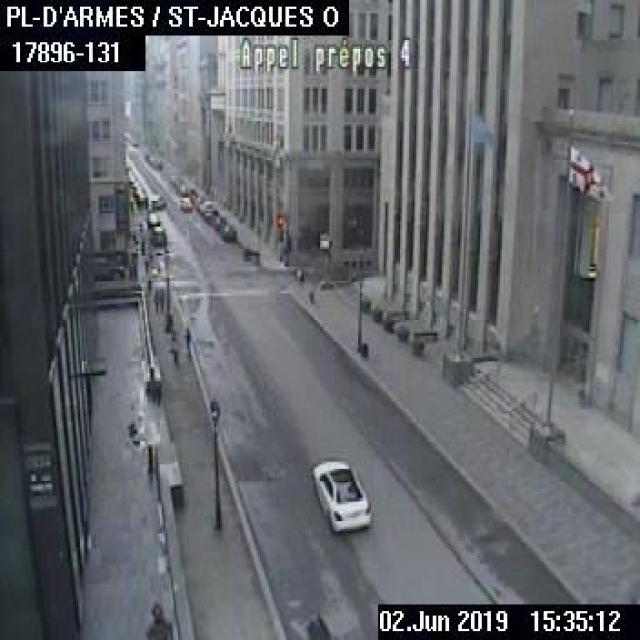pedestrian: (182, 328, 190, 352), (151, 287, 158, 313), (158, 286, 164, 311)
vehicle: (308, 458, 371, 533), (87, 254, 122, 276), (242, 245, 260, 262), (150, 224, 166, 243), (219, 222, 235, 240), (210, 212, 225, 228), (149, 193, 165, 207), (197, 197, 211, 213), (203, 206, 217, 221), (146, 210, 159, 226), (177, 196, 191, 210), (134, 194, 148, 207)
